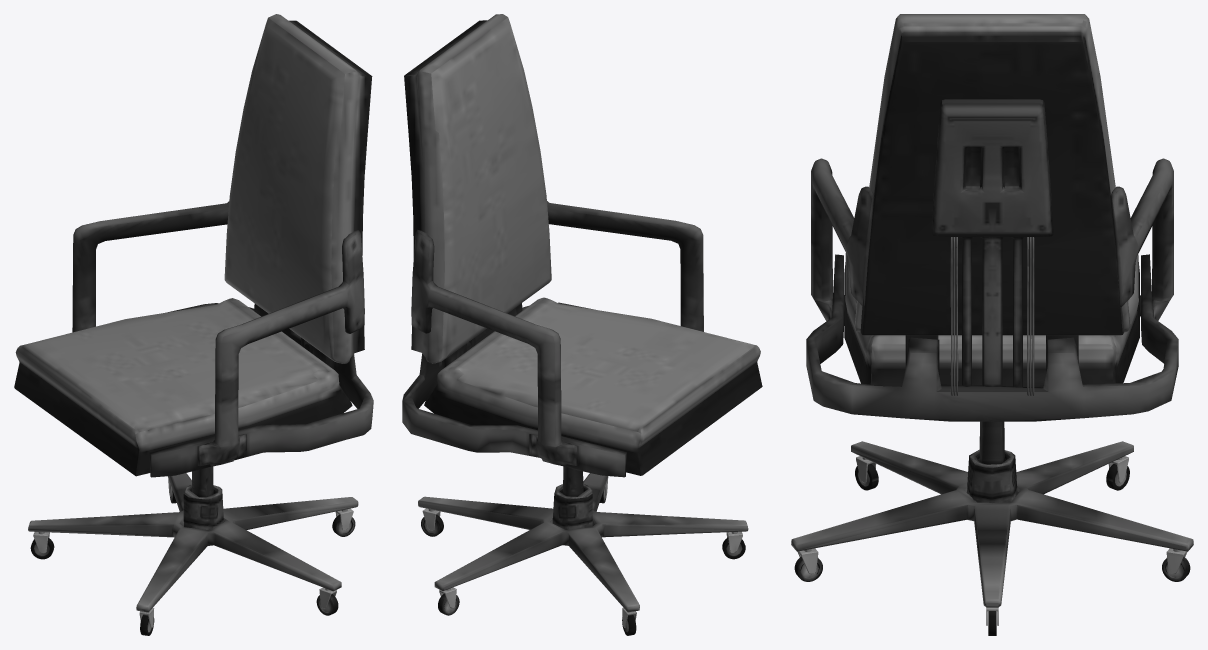
The model's file is office_chair.glb.
The picture shows the model from 3 angles, left to right: view 1: azimuth 30°, elevation 25°; view 2: azimuth 150°, elevation 25°; view 3: azimuth 270°, elevation 25°; orthographic projection. The views are drawn at different scales.
Parts seen in each view (by area): view 1: Cube__0; view 2: Cube__0; view 3: Cube__0.
Part boxes in pixels (x1,y1,x2,y2): Cube__0: (14,14,373,635); Cube__0: (402,14,762,635); Cube__0: (791,14,1193,635).
Bounding box in the file's own units: 0.7904 × 1.34 × 0.8144.
1 material, 1 textured.
